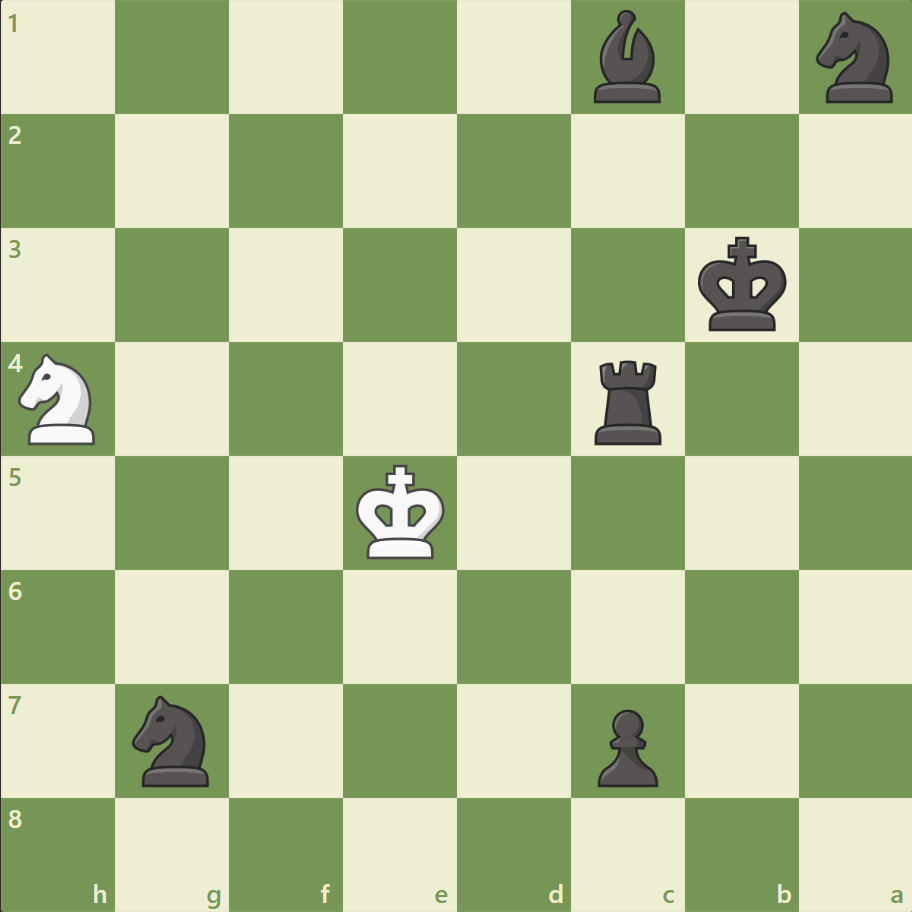K: (351, 458, 451, 566)
N: (11, 348, 108, 450)
b: (585, 6, 669, 109)
k: (692, 231, 792, 339)
n: (124, 688, 222, 791), (806, 7, 903, 110)
p: (588, 700, 662, 791)
r: (587, 352, 670, 449)
